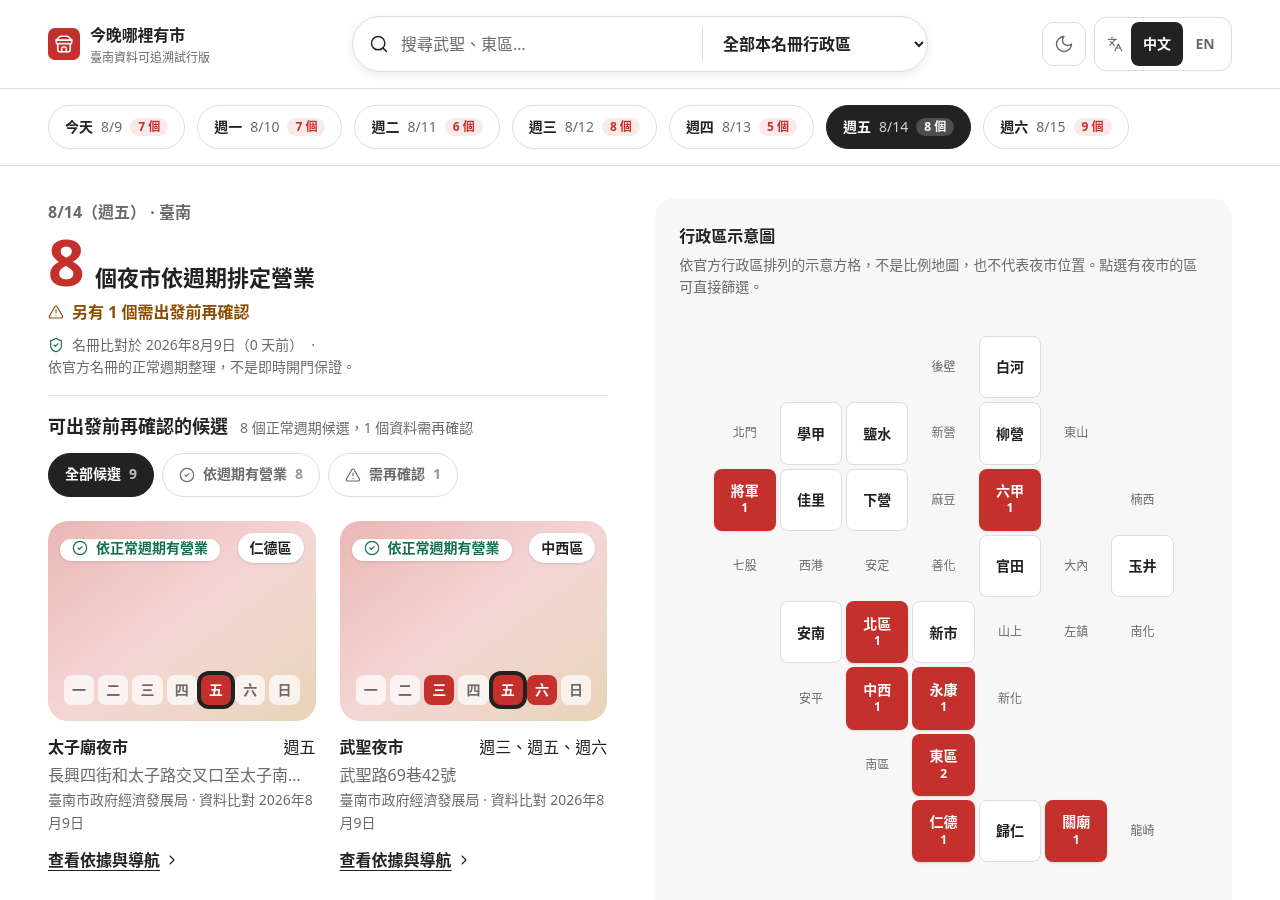
Test: trusted public experience › applies the official district code from the schematic district map
This screenshot has width=1280, height=900.
Click the button with aria-label "東區：所選日期 2 個候選，名冊共 4 個": (944, 765) [912,734,975,796]
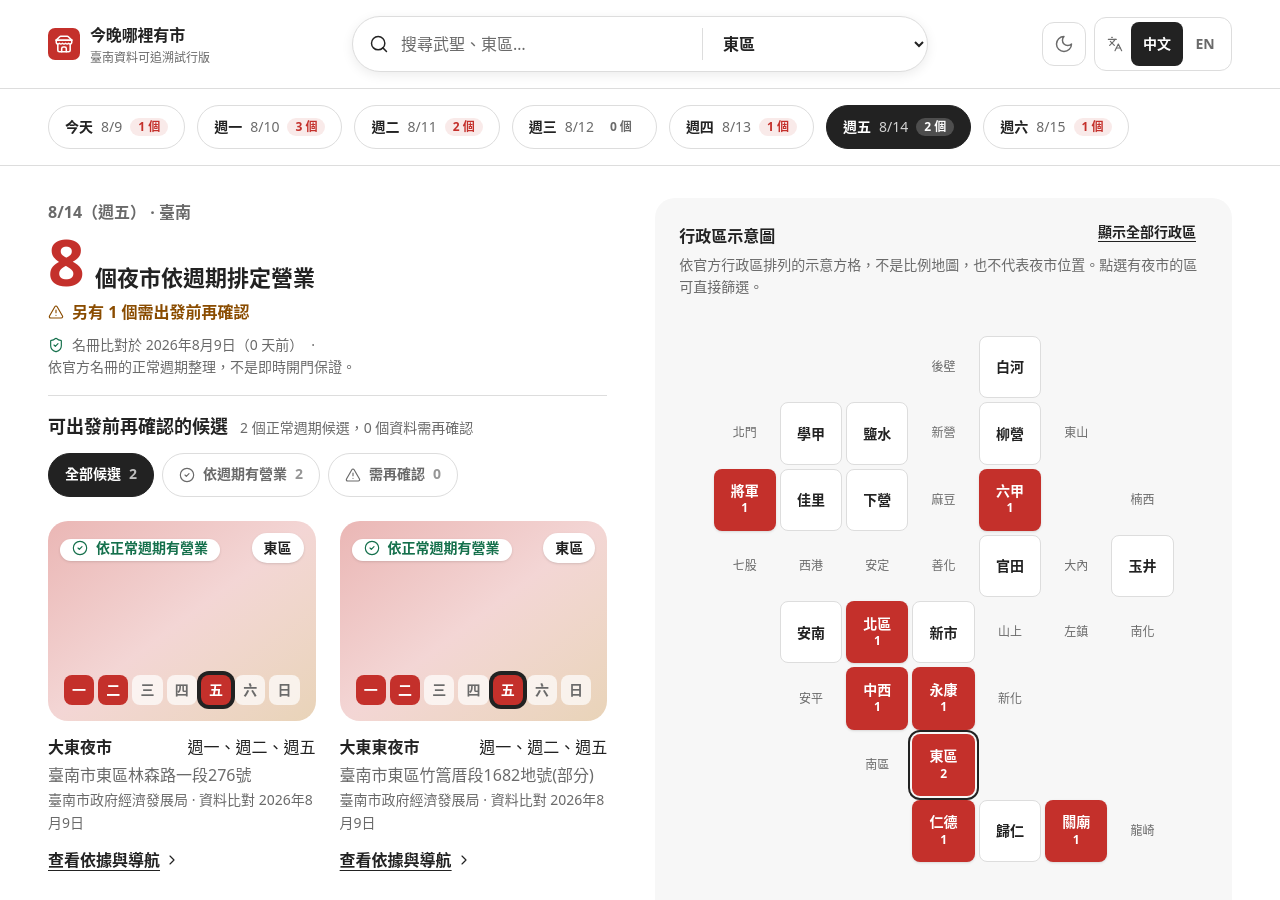
Check: the text "2 個正常週期候選，0 個資料需再確認" is shown, box [240,417,473,439]
